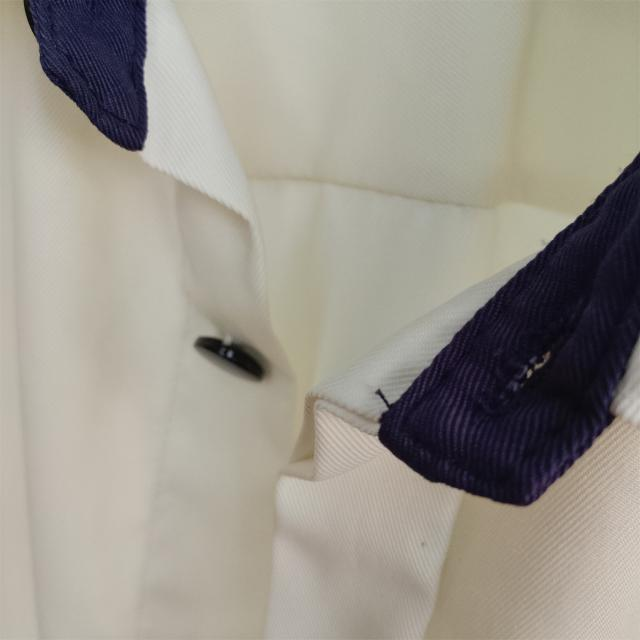education_male_uniform: (1, 0, 640, 530)
